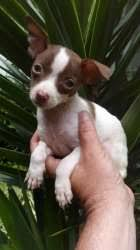chihuahua: (12, 10, 134, 218)
